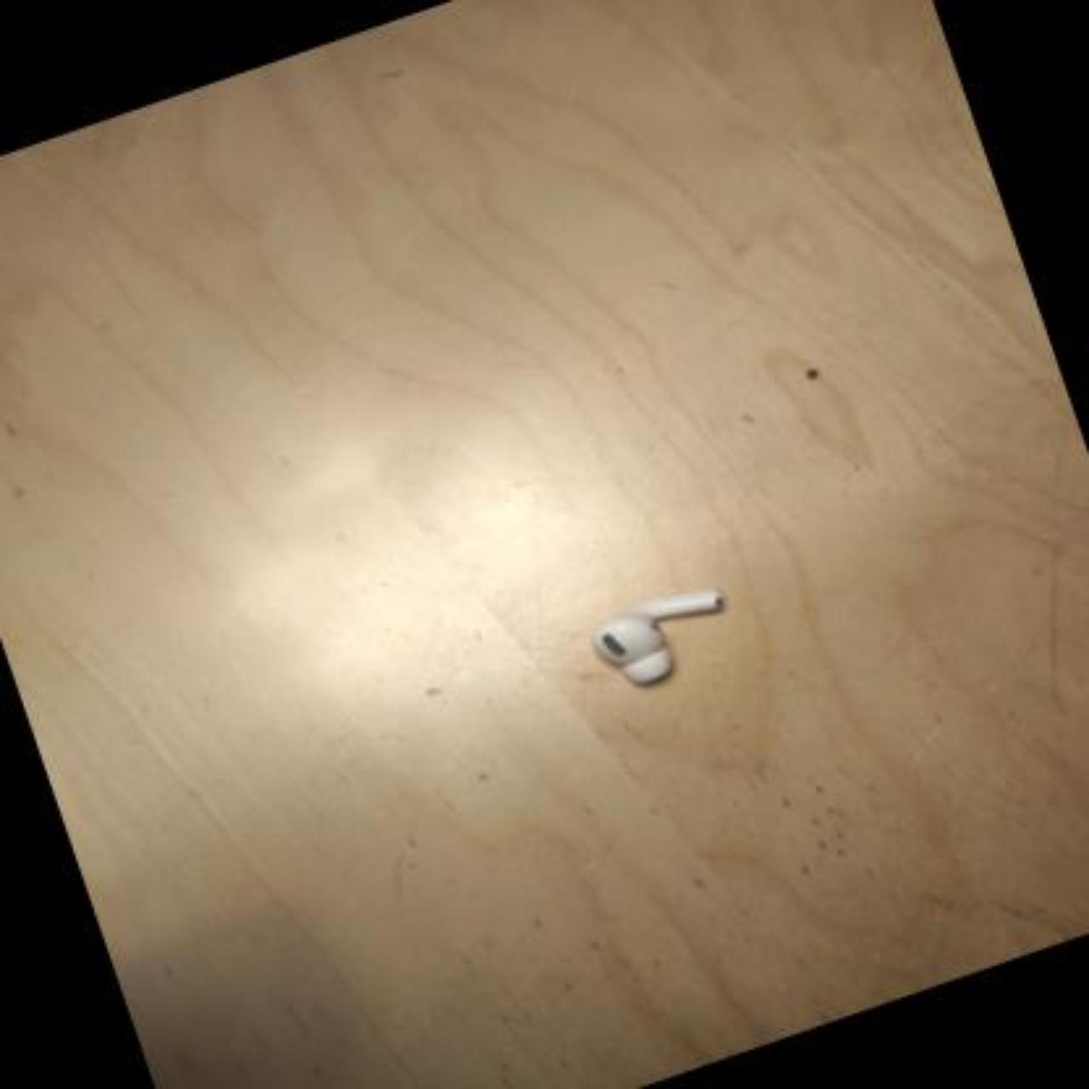Airpods_Units: (589, 579, 748, 694)
